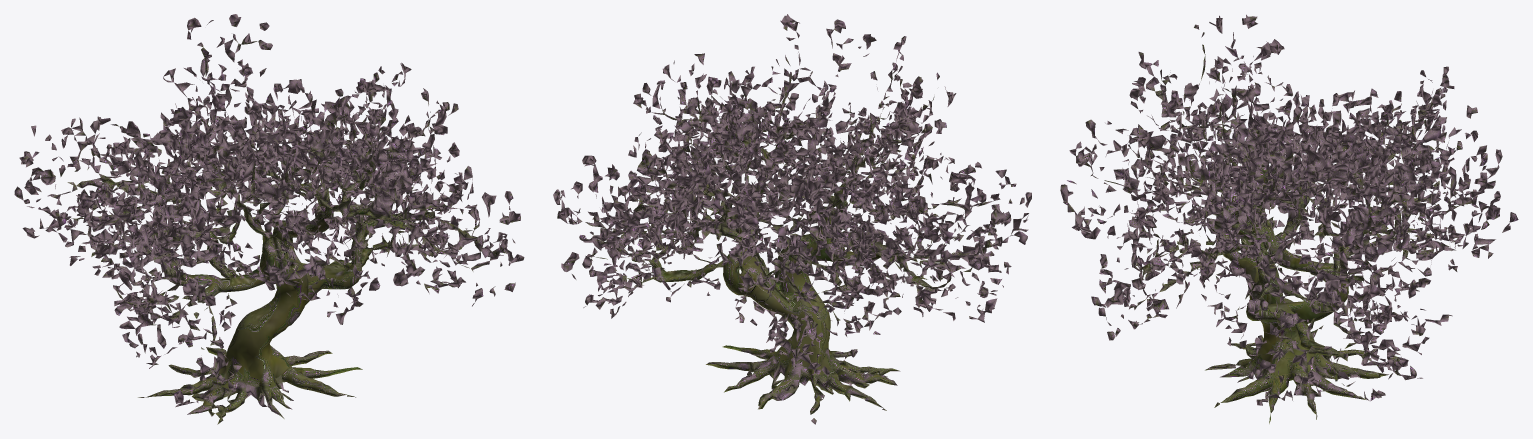
The picture shows the model from 3 angles, left to right: view 1: azimuth 30°, elevation 25°; view 2: azimuth 150°, elevation 25°; view 3: azimuth 270°, elevation 25°; orthographic projection. The views are drawn at different scales.
Size of the model in its own units: 1.89 by 1.47 by 1.87.
1 material, 1 textured.
